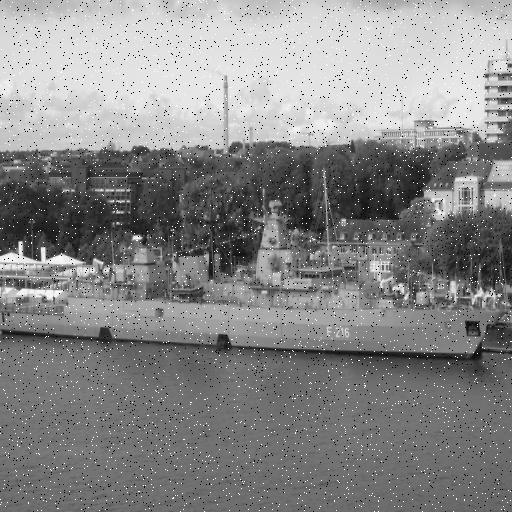Fragata: (1, 195, 509, 364)
